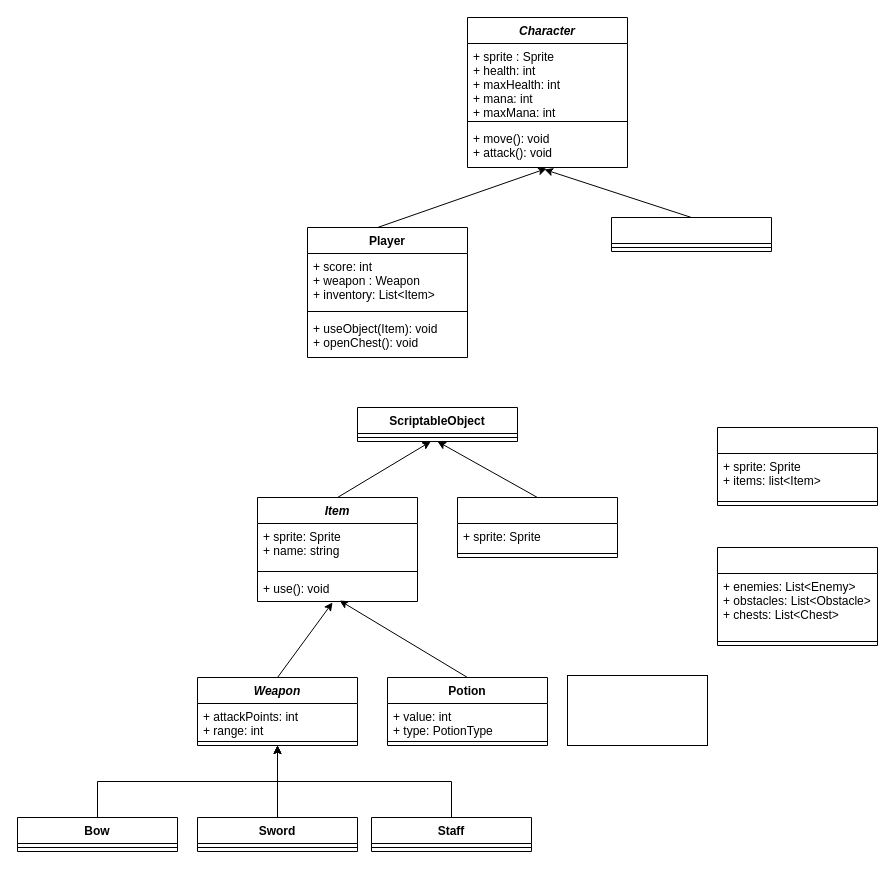
This 895x869 diagram has some shape labels left out. Each missing label, with the box of its shape:
<<enum>> PotionType Health, Mana: (566, 674, 708, 746)
Chest: (716, 426, 878, 506)
Enemy: (610, 216, 772, 252)
Obstacle: (456, 496, 618, 558)
Room: (716, 546, 878, 646)
